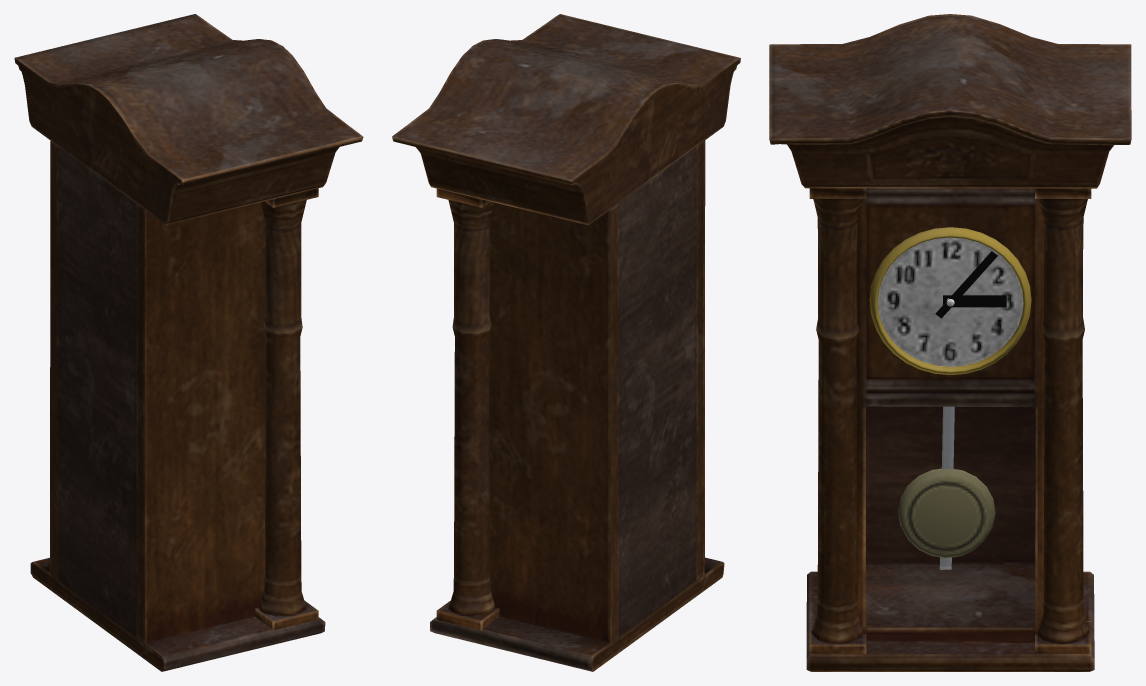
Rendered from SM_Prop_Stage2_Clock.fbx.
The picture shows the model from 3 angles, left to right: view 1: azimuth 30°, elevation 25°; view 2: azimuth 150°, elevation 25°; view 3: azimuth 270°, elevation 25°; orthographic projection. The views are drawn at different scales.
Visible parts, largest first — view 1: SM_Prop_Stage2_Clock; view 2: SM_Prop_Stage2_Clock; view 3: SM_Prop_Stage2_Clock.
Boxes of the visible parts, x1,y1,x2,y2 form: SM_Prop_Stage2_Clock: (14, 14, 363, 671); SM_Prop_Stage2_Clock: (392, 14, 740, 671); SM_Prop_Stage2_Clock: (769, 14, 1131, 671).
Size of the model in its own units: 60.75 by 167 by 94.99.
1 material, 1 textured.
